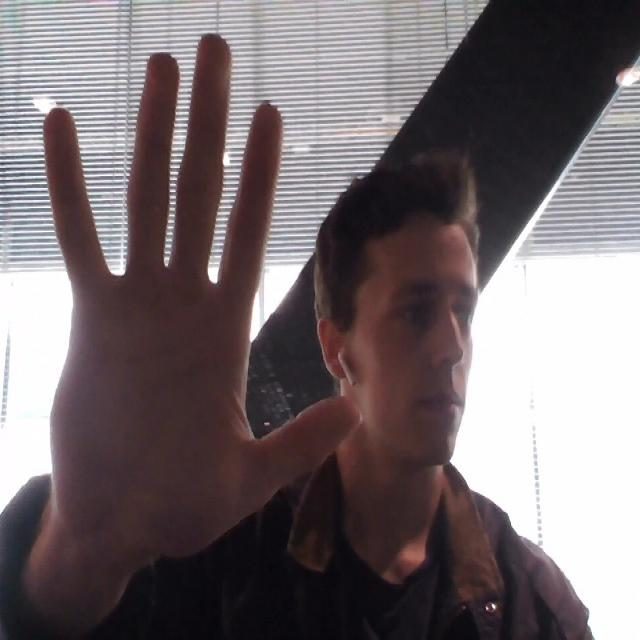backward: (32, 0, 364, 555)
